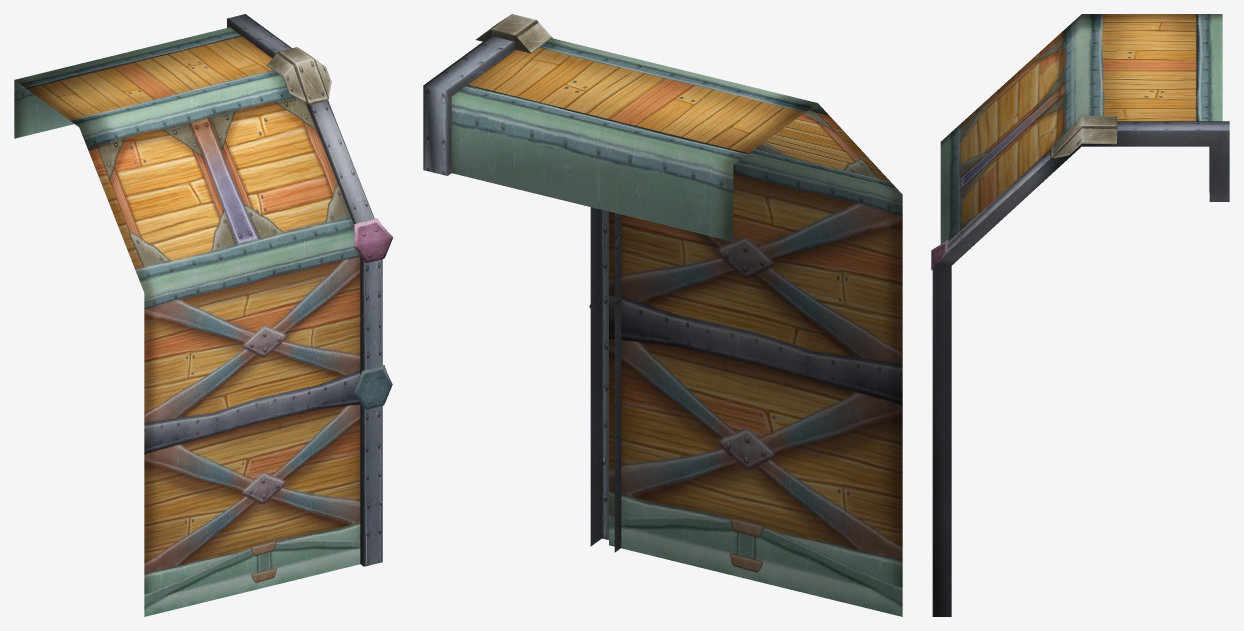
File: obj_madaprrevetment1802.glb
3 renders of one model, left to right at view 1: azimuth 30°, elevation 25°; view 2: azimuth 150°, elevation 25°; view 3: azimuth 270°, elevation 25°, orthographic. The views are drawn at different scales.
Visible parts, largest first — view 1: part_0; view 2: part_0; view 3: part_0.
Boxes of the visible parts, x1,y1,x2,y2 form: part_0: [14, 14, 393, 616]; part_0: [423, 14, 902, 616]; part_0: [931, 14, 1229, 616].
Size of the model in its own units: 8.76 by 15.38 by 8.47.
1 material, 1 textured.
